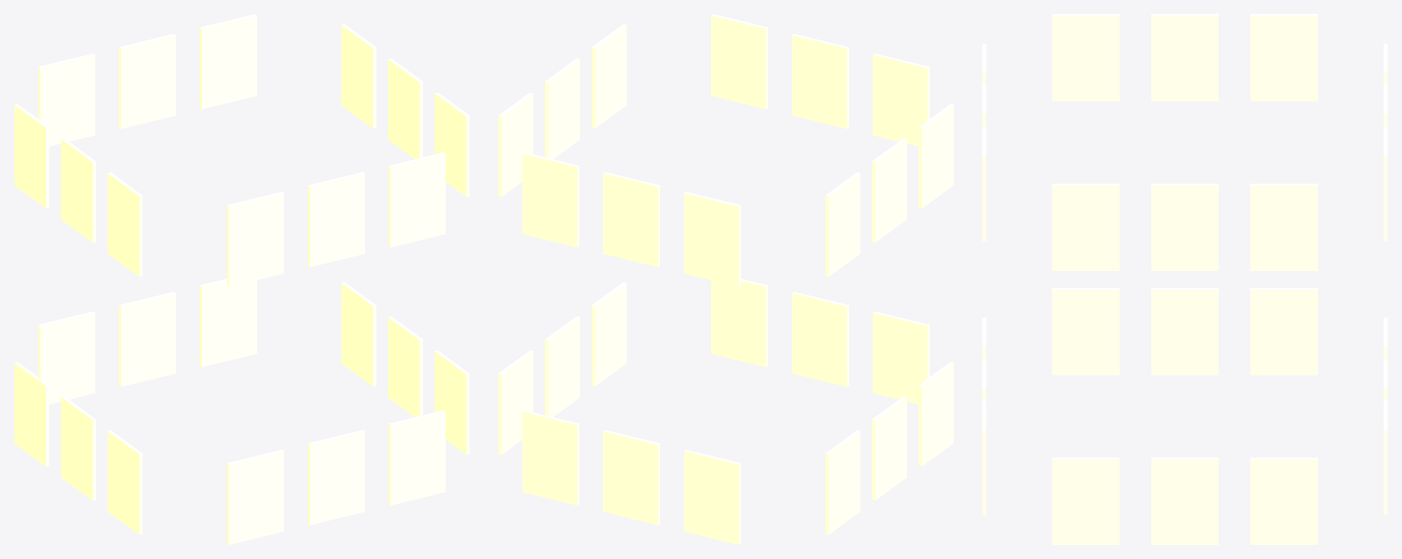
The model's file is building-skyscraper-a.glb.
3 renders of one model, left to right at view 1: azimuth 30°, elevation 25°; view 2: azimuth 150°, elevation 25°; view 3: azimuth 270°, elevation 25°, orthographic. The views are drawn at different scales.
Visible parts, largest first — view 1: WindowLight_front_1_2, WindowLight_front_0_2, WindowLight_back_0_1, WindowLight_front_1_1, WindowLight_back_1_2, WindowLight_front_0_0, WindowLight_front_1_0, WindowLight_back_1_1, WindowLight_front_0_1, WindowLight_back_0_0, WindowLight_back_1_0, WindowLight_back_0_2 (+12 smaller); view 2: WindowLight_back_1_2, WindowLight_back_0_2, WindowLight_back_1_1, WindowLight_front_0_1, WindowLight_back_0_0, WindowLight_back_1_0, WindowLight_front_1_2, WindowLight_back_0_1, WindowLight_front_1_1, WindowLight_front_0_0, WindowLight_front_1_0, WindowLight_front_0_2 (+12 smaller); view 3: WindowLight_left_0_0, WindowLight_left_0_1, WindowLight_left_0_2, WindowLight_left_1_0, WindowLight_left_1_1, WindowLight_left_1_2, WindowLight_right_0_0, WindowLight_right_0_1, WindowLight_right_0_2, WindowLight_right_1_0, WindowLight_right_1_1, WindowLight_right_1_2 (+4 smaller).
Part boxes in pixels (bbox=[...]): WindowLight_front_1_2: bbox=[388, 152, 445, 247]; WindowLight_front_0_2: bbox=[388, 410, 445, 505]; WindowLight_back_0_1: bbox=[119, 291, 175, 386]; WindowLight_front_1_1: bbox=[308, 172, 364, 267]; WindowLight_back_1_2: bbox=[200, 14, 256, 109]; WindowLight_front_0_0: bbox=[227, 449, 283, 544]; WindowLight_front_1_0: bbox=[227, 192, 283, 286]; WindowLight_back_1_1: bbox=[119, 34, 175, 128]; WindowLight_front_0_1: bbox=[308, 430, 364, 524]; WindowLight_back_0_0: bbox=[38, 311, 95, 404]; WindowLight_back_1_0: bbox=[38, 53, 95, 146]; WindowLight_back_0_2: bbox=[200, 279, 256, 366]; WindowLight_back_1_2: bbox=[522, 152, 579, 247]; WindowLight_back_0_2: bbox=[522, 410, 579, 505]; WindowLight_back_1_1: bbox=[603, 172, 659, 267]; WindowLight_front_0_1: bbox=[792, 291, 848, 386]; WindowLight_back_0_0: bbox=[684, 449, 740, 544]; WindowLight_back_1_0: bbox=[684, 192, 740, 286]; WindowLight_front_1_2: bbox=[711, 14, 767, 109]; WindowLight_back_0_1: bbox=[603, 430, 659, 524]; WindowLight_front_1_1: bbox=[792, 34, 848, 128]; WindowLight_front_0_0: bbox=[872, 311, 929, 404]; WindowLight_front_1_0: bbox=[872, 53, 929, 146]; WindowLight_front_0_2: bbox=[711, 279, 767, 366]; WindowLight_left_0_0: bbox=[1052, 288, 1119, 375]; WindowLight_left_0_1: bbox=[1151, 288, 1218, 375]; WindowLight_left_0_2: bbox=[1250, 288, 1317, 375]; WindowLight_left_1_0: bbox=[1052, 14, 1119, 101]; WindowLight_left_1_1: bbox=[1151, 14, 1218, 101]; WindowLight_left_1_2: bbox=[1250, 14, 1317, 101]; WindowLight_right_0_0: bbox=[1052, 457, 1119, 544]; WindowLight_right_0_1: bbox=[1151, 457, 1218, 544]; WindowLight_right_0_2: bbox=[1250, 457, 1317, 544]; WindowLight_right_1_0: bbox=[1052, 183, 1119, 270]; WindowLight_right_1_1: bbox=[1151, 183, 1218, 270]; WindowLight_right_1_2: bbox=[1250, 183, 1317, 270].
Size of the model in its own units: 1.39 by 1.36 by 1.39.
